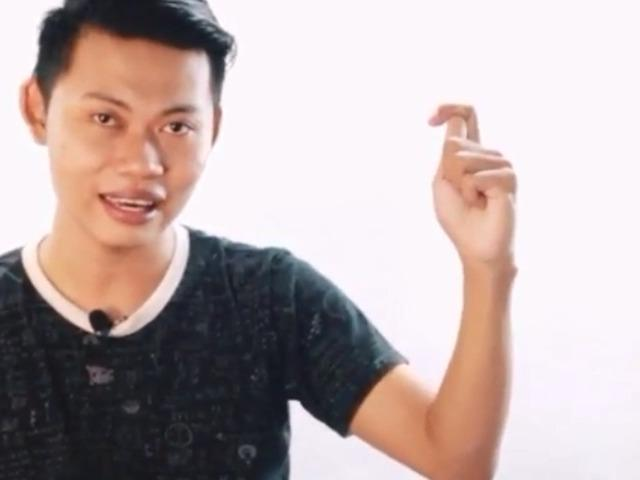T: (427, 99, 517, 274)
